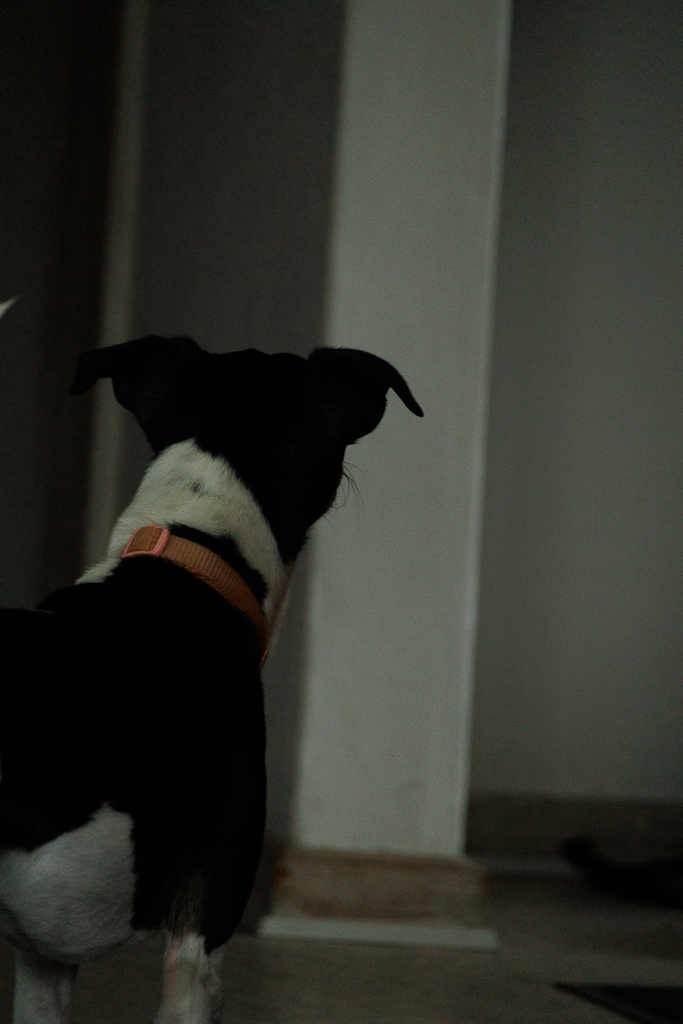Dog: (0, 285, 432, 1024)
